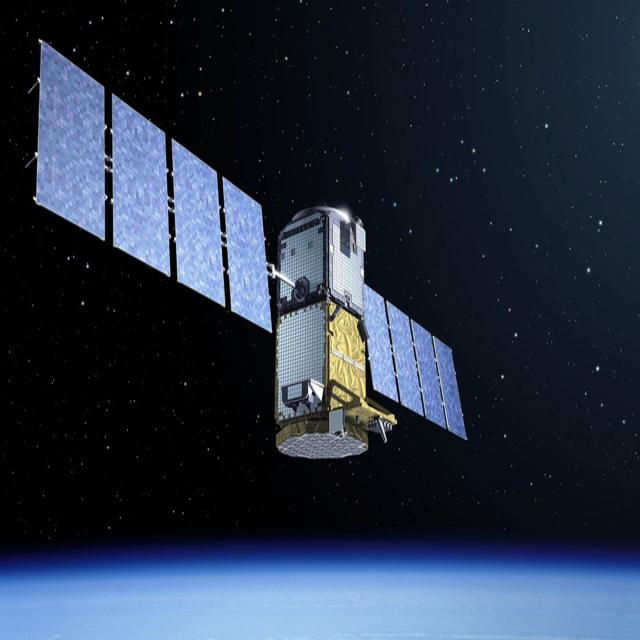satellite: (26, 31, 471, 482)
